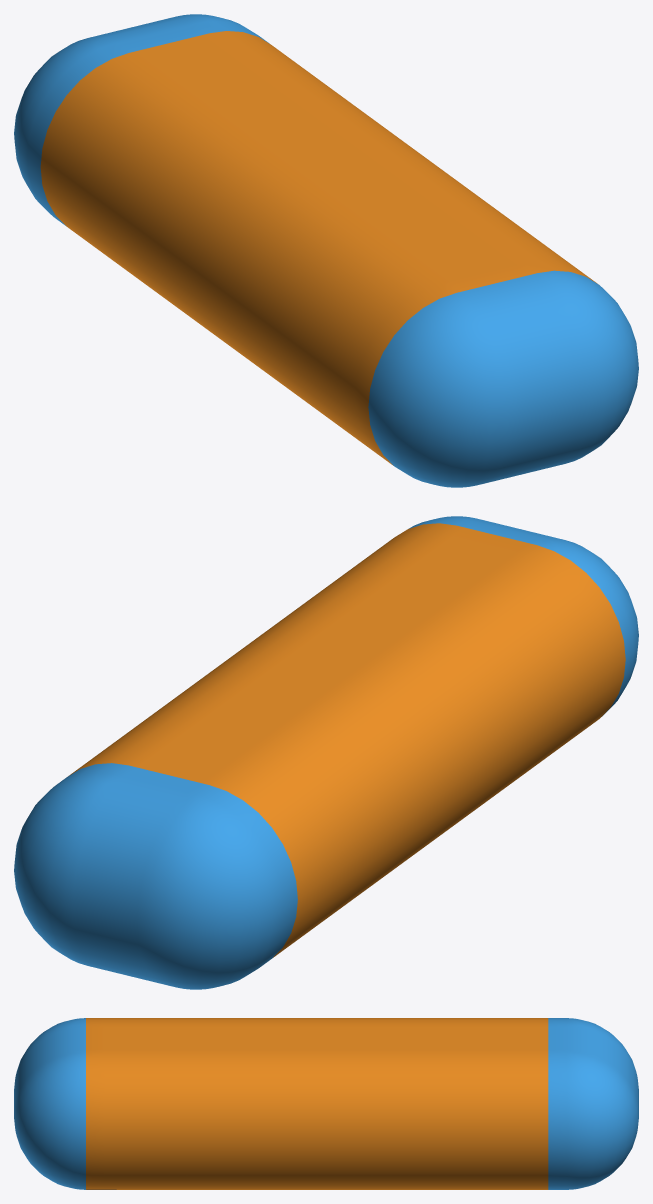
The picture shows the model from 3 angles, top to bottom: view 1: azimuth 30°, elevation 25°; view 2: azimuth 150°, elevation 25°; view 3: azimuth 270°, elevation 25°; orthographic projection. The views are drawn at different scales.
Visible parts, largest first — view 1: Submarine; view 2: Submarine; view 3: Submarine.
Boxes of the visible parts, x1,y1,x2,y2 form: Submarine: [14, 14, 638, 487]; Submarine: [14, 516, 638, 989]; Submarine: [14, 1018, 638, 1189].
Size of the model in its own units: 422 by 291 by 1260.
